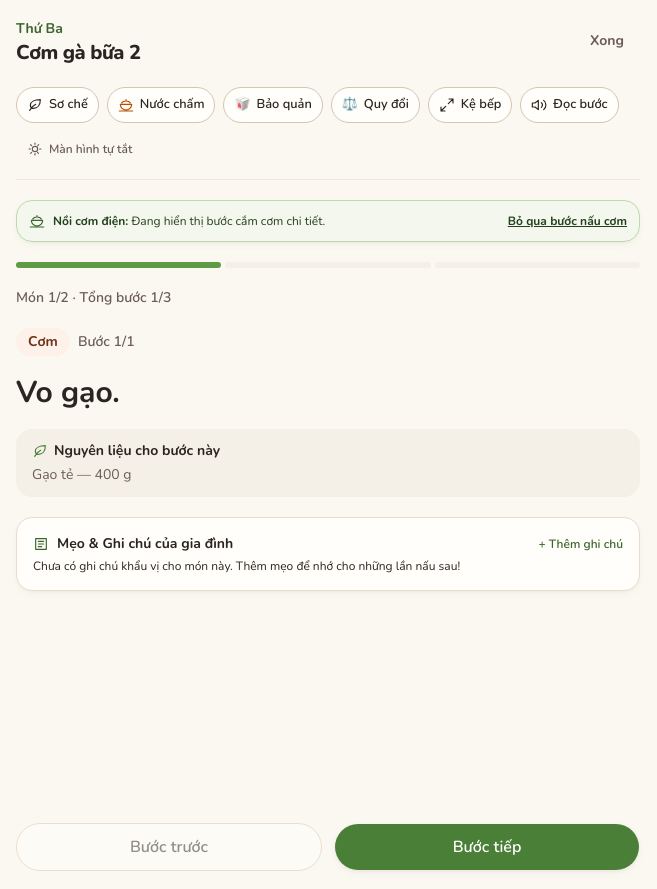
Test: CookingPage › gives the next step a fresh timer rather than carrying a running one across
Click the button "Bước tiếp" at (487, 847), box [334, 823, 640, 871]
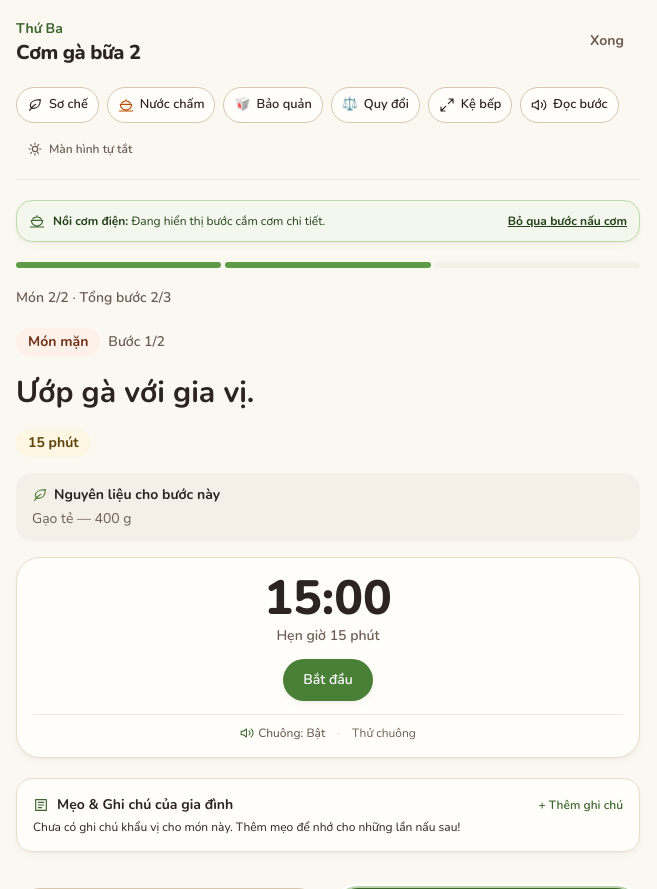
Click the button "Bắt đầu" at (328, 680), box [282, 658, 374, 702]
(page scrolled)
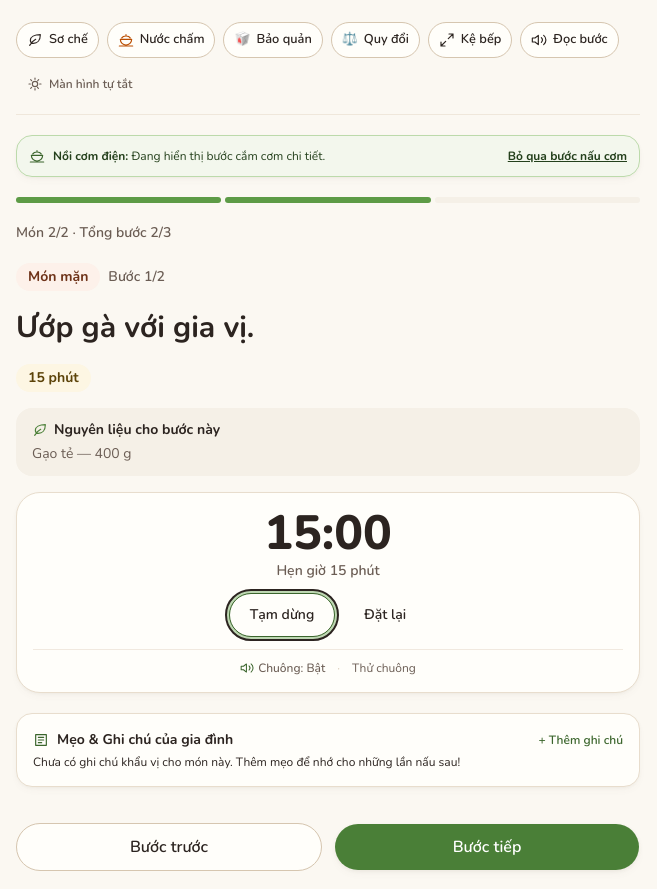
Click the button "Bước tiếp" at (487, 847), box [334, 823, 640, 871]
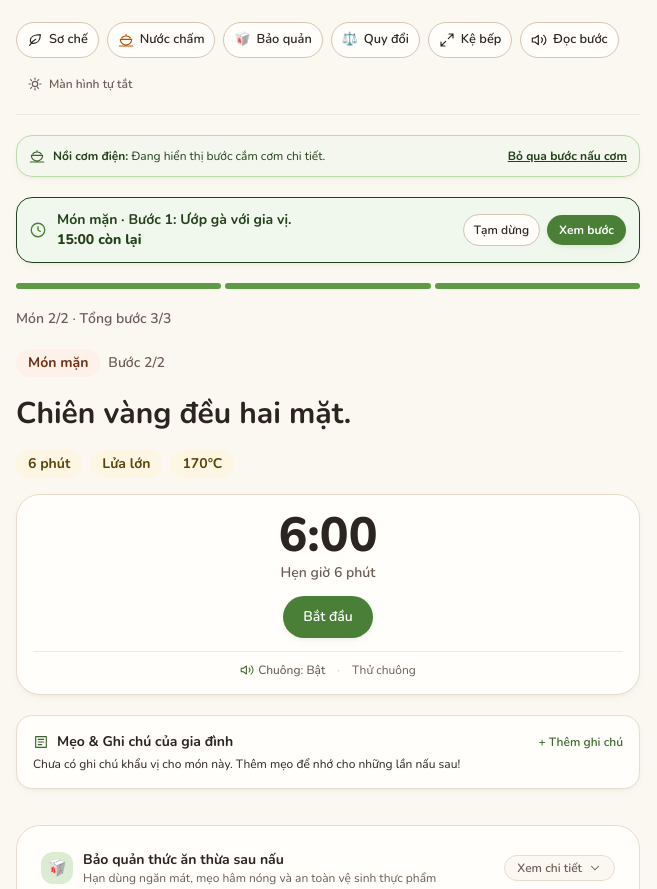
Check: the text "6:00" is shown, box [278, 502, 377, 568]
Check: the button "Bắt đầu" is shown, box [282, 595, 374, 639]
